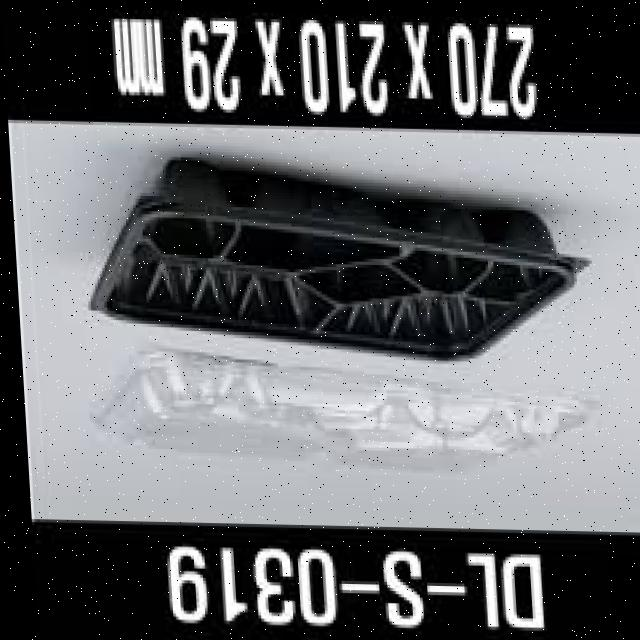disposable: (68, 138, 584, 397)
